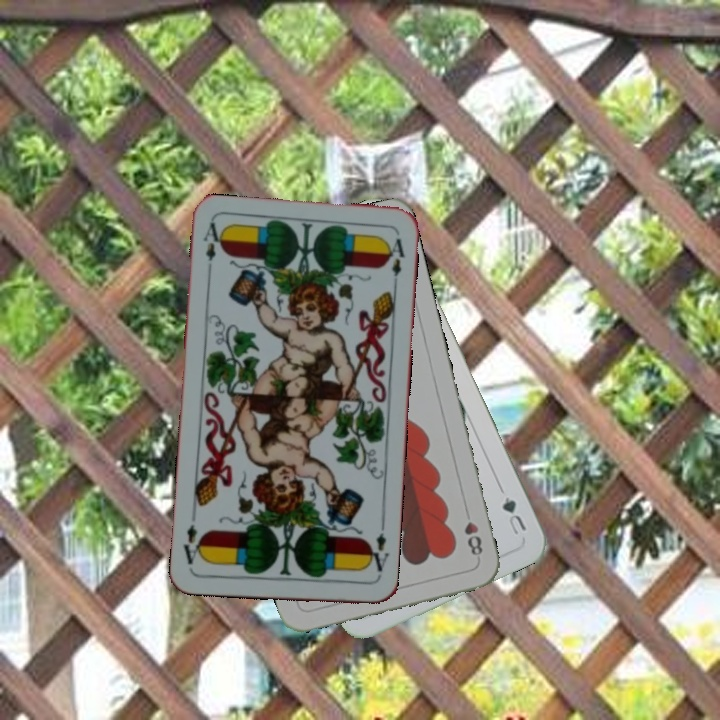EA: (199, 219, 225, 278), (363, 520, 391, 574)
GU: (498, 492, 529, 538)
H8: (460, 517, 485, 562)
